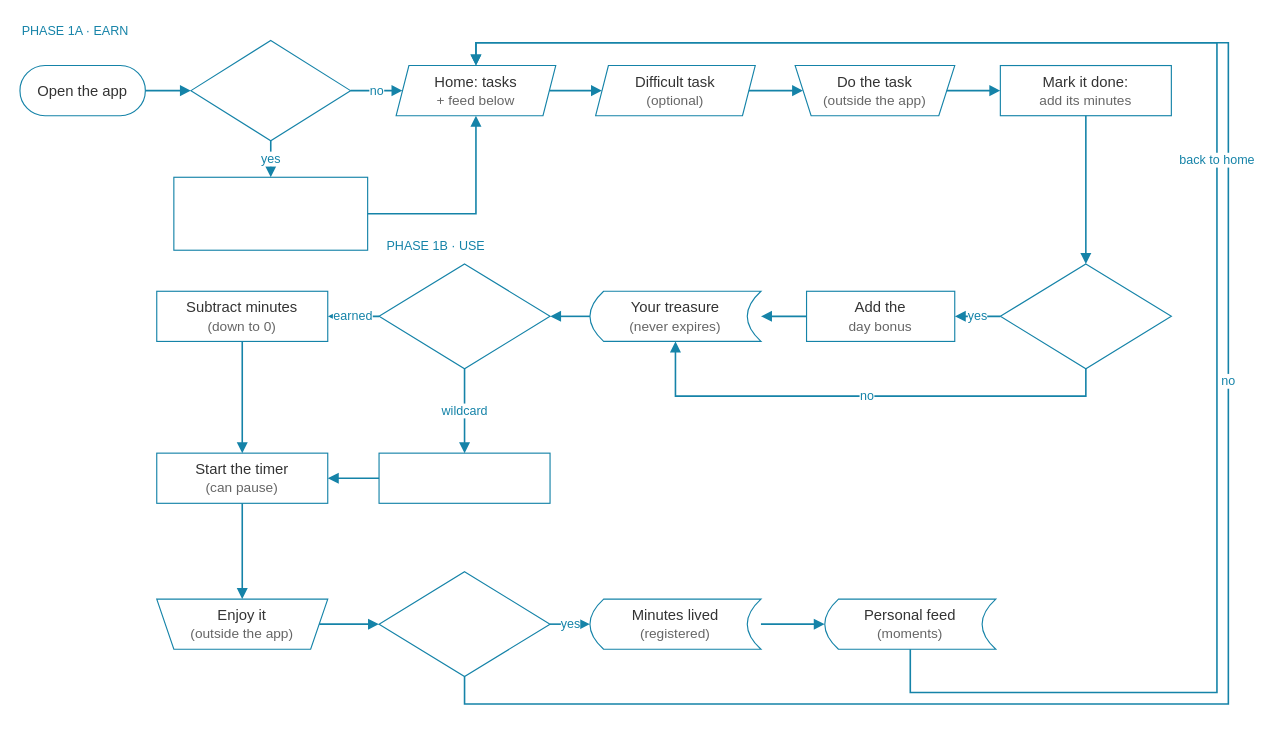
Some shapes in this 1273 by 733 pixel diagram are drawn without their labels. Each missing label, with the centre of its shape:
"All of today’s tasks done?" goes at point 1085,316.
"Earned time or wildcard?" goes at point 464,316.
"First visit?" goes at point 270,90.
"Register the moment?" goes at point 464,624.
"Use the wildcard (15 minutes)" goes at point 464,477.
"Welcome: pick tasks & repeat" goes at point 270,213.
